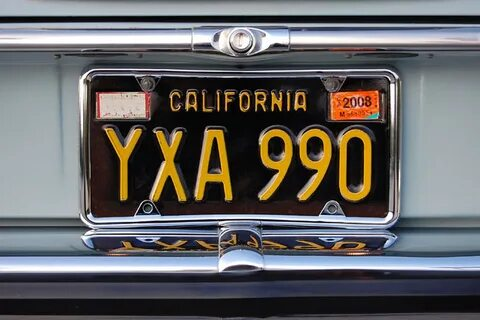number_plate: (90, 69, 394, 224)
